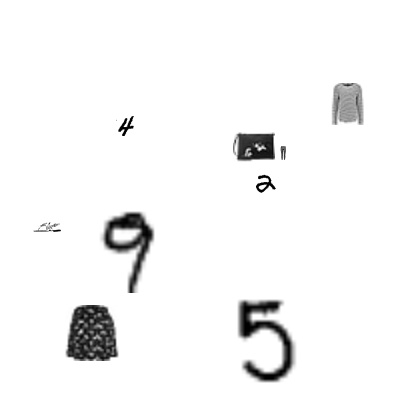2: (250, 169, 278, 197)
4: (112, 112, 140, 140)
5: (207, 281, 319, 393)
9: (73, 181, 185, 293)
Bag: (233, 125, 275, 167)
Coat: (64, 305, 120, 361)
Pullover: (326, 83, 368, 125)
Sandal: (33, 213, 61, 241)
Trouser: (276, 146, 290, 160)
